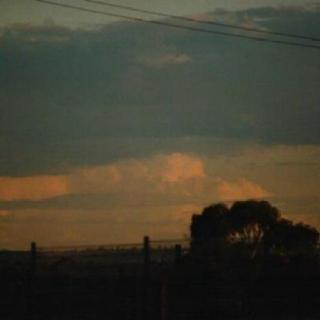Stratocumulus: (0, 0, 320, 204)
